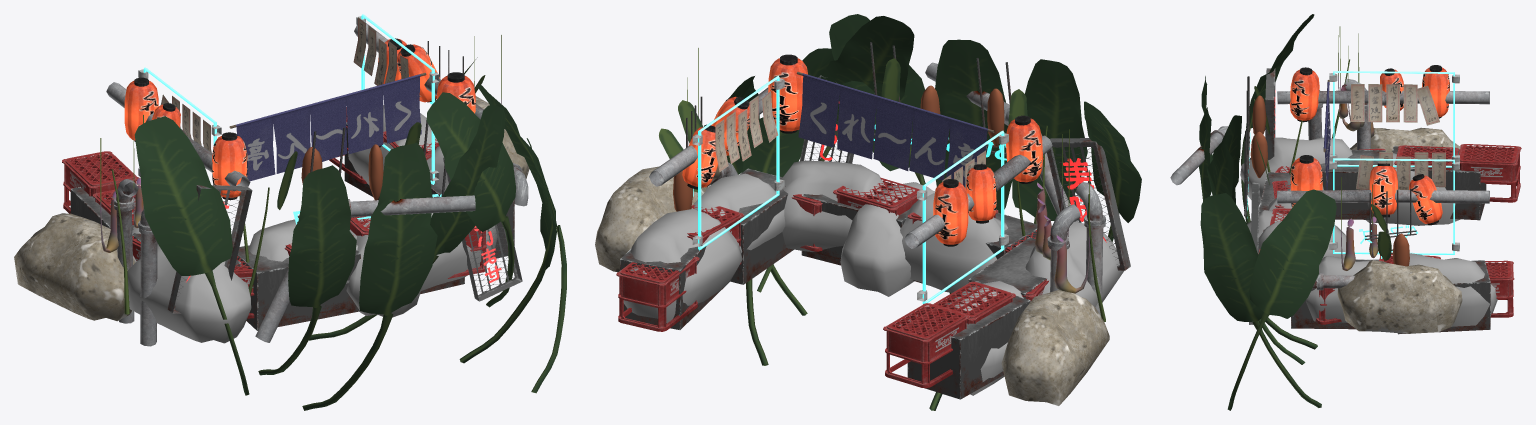
File: NewBGasset_03.fbx
3 views of the same model, side by side, from view 1: azimuth 30°, elevation 25°; view 2: azimuth 150°, elevation 25°; view 3: azimuth 270°, elevation 25° (orthographic). The views are drawn at different scales.
Visible parts, largest first — view 1: jungle_bg, izakaya_bg, neon_bg, rock_group_01, iron_box_group, beer_box_group; view 2: jungle_bg, rock_group_01, izakaya_bg, neon_bg, iron_box_group, beer_box_group; view 3: jungle_bg, izakaya_bg, neon_bg, rock_group_01, iron_box_group, beer_box_group.
Boxes of the visible parts, x1,y1,x2,y2 form: jungle_bg: (14, 35, 566, 410); izakaya_bg: (124, 17, 475, 200); neon_bg: (106, 14, 528, 346); rock_group_01: (127, 105, 498, 343); iron_box_group: (70, 122, 514, 330); beer_box_group: (62, 107, 486, 318); jungle_bg: (595, 14, 1141, 410); rock_group_01: (623, 160, 1123, 395); izakaya_bg: (682, 54, 1043, 246); neon_bg: (649, 42, 1130, 316); iron_box_group: (620, 168, 1047, 399); beer_box_group: (616, 177, 1048, 388); jungle_bg: (1199, 14, 1462, 410); izakaya_bg: (1289, 65, 1449, 225); neon_bg: (1170, 68, 1489, 324); rock_group_01: (1240, 137, 1497, 326); iron_box_group: (1259, 146, 1490, 334); beer_box_group: (1258, 144, 1521, 324).
Bounding box in the file's own units: 122 × 82.42 × 96.03.
2 materials, 1 textured.
